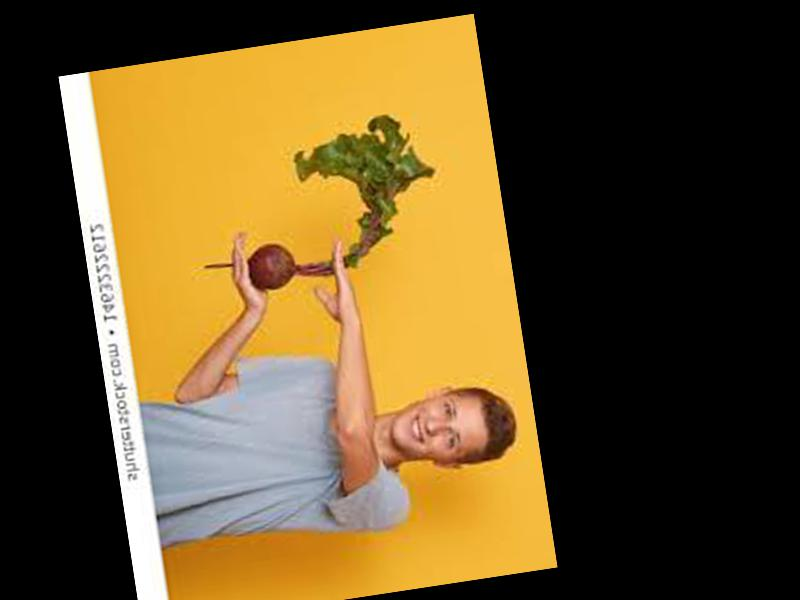Beet: (186, 108, 448, 299)
